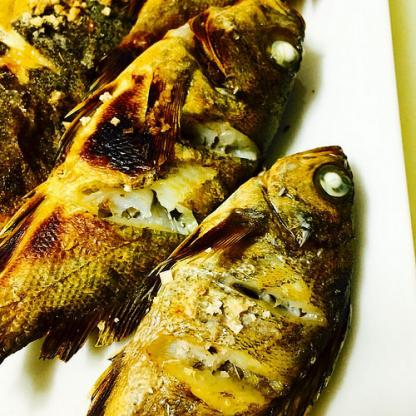Peixe: (0, 0, 371, 416)
